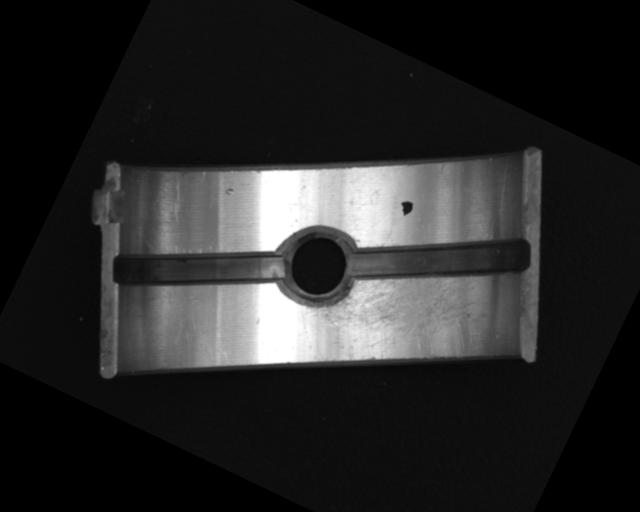blot: (394, 196, 416, 219)
bruise: (222, 185, 236, 199)
gap: (346, 178, 534, 341), (108, 197, 288, 346)
hole: (268, 217, 366, 318)
scratch: (287, 222, 496, 416)
